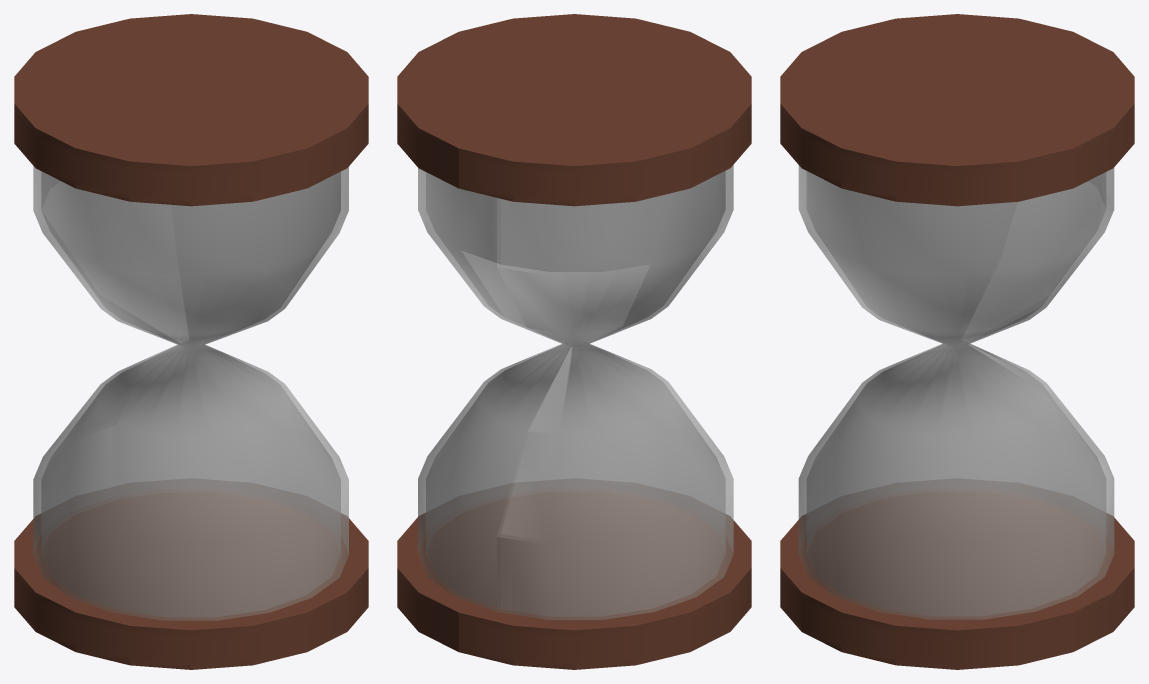
File: transparent_glass_hourglass.glb
The picture shows the model from 3 angles, left to right: view 1: azimuth 30°, elevation 25°; view 2: azimuth 150°, elevation 25°; view 3: azimuth 270°, elevation 25°; orthographic projection.
Parts seen in each view (by area): view 1: 3DSMeshMatrix; view 2: 3DSMeshMatrix; view 3: 3DSMeshMatrix.
Part boxes in pixels (x1,y1,x2,y2): 3DSMeshMatrix: (14,14,368,669); 3DSMeshMatrix: (397,14,751,669); 3DSMeshMatrix: (780,14,1134,669).
Size of the model in its own units: 31.23 by 48.22 by 30.76.
